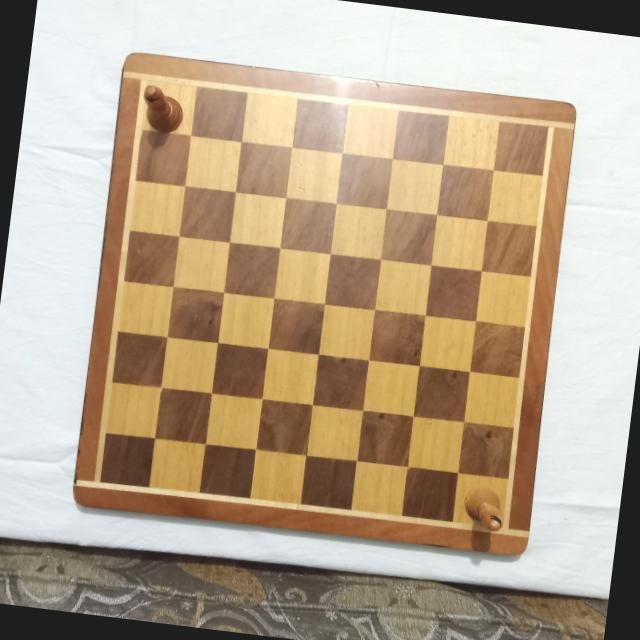white-bishop: (137, 82, 187, 134), (462, 485, 506, 534)
